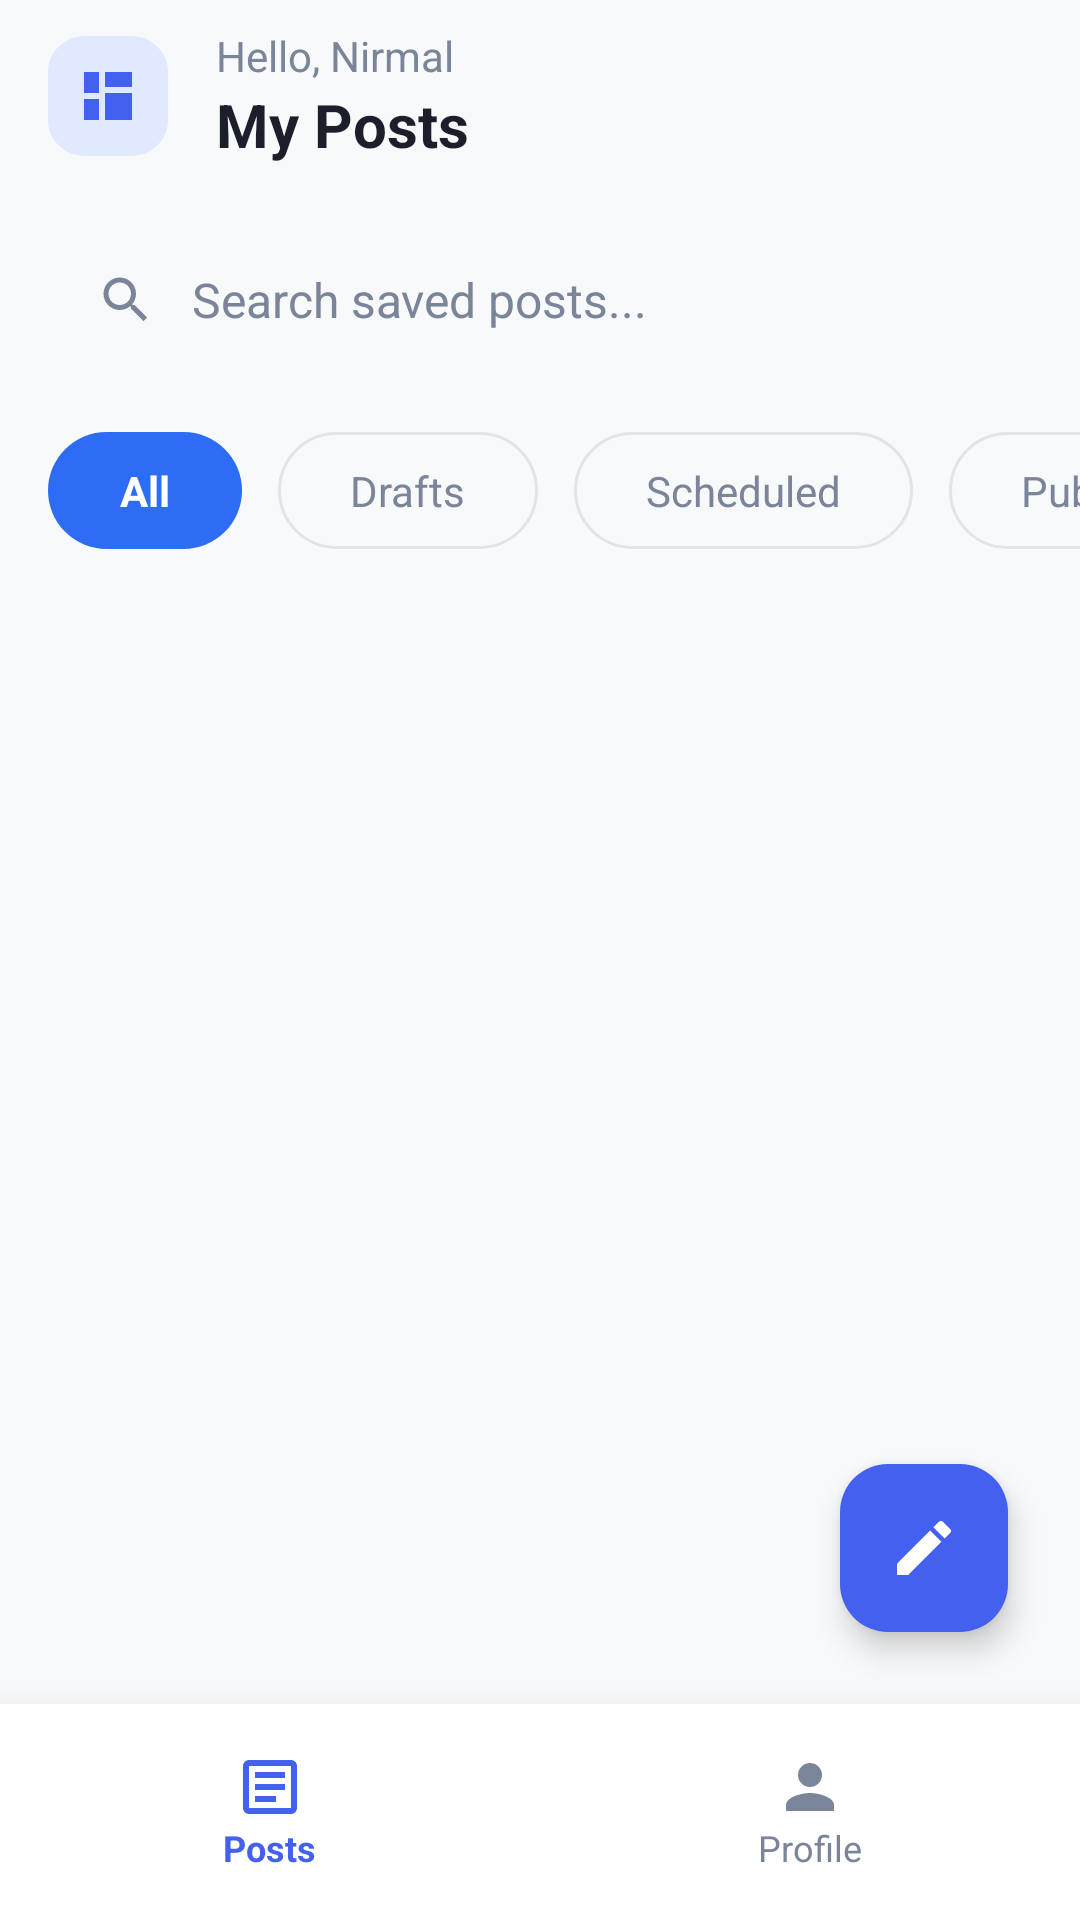

Icon click points for this 1080*1920 phone screenshot, format point (x, y):
grid: point (108, 96)
